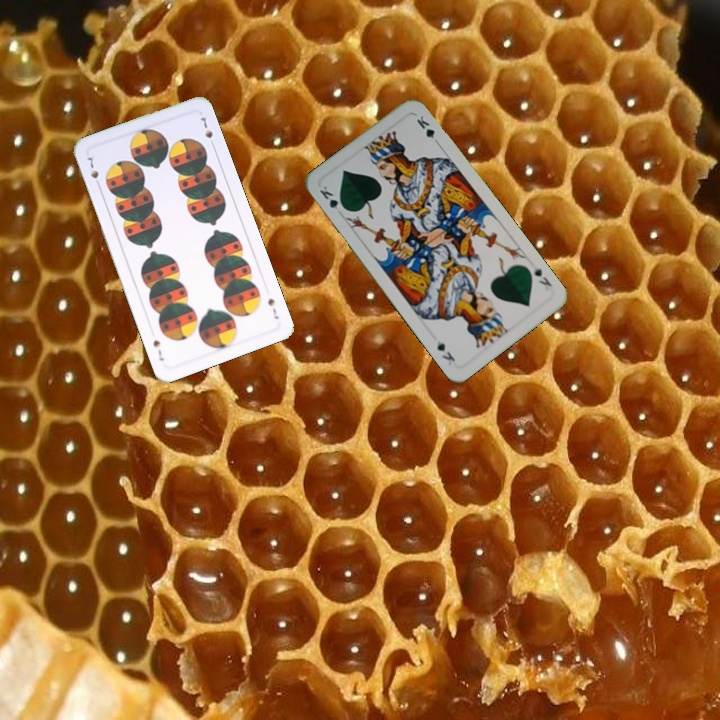GK: (315, 182, 349, 213), (528, 262, 554, 289)
S7: (82, 150, 103, 190), (264, 294, 282, 322)
